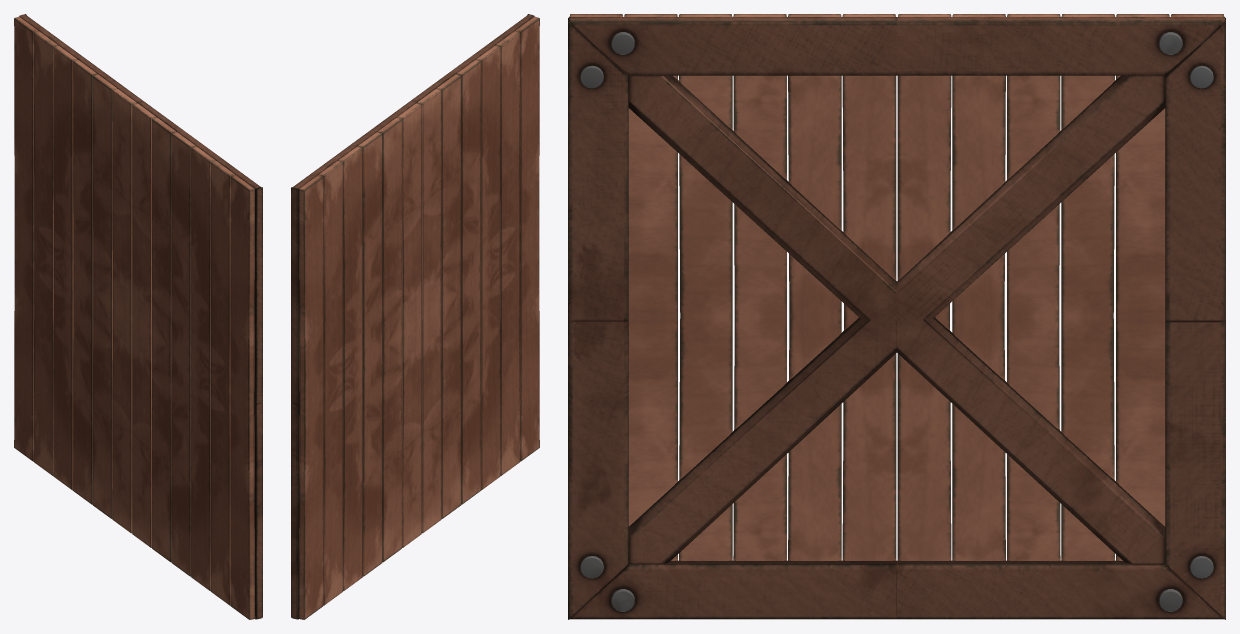
The model's file is SM_WoodCrateLow.fbx.
3 views of the same model, side by side, from view 1: azimuth 30°, elevation 25°; view 2: azimuth 150°, elevation 25°; view 3: azimuth 270°, elevation 25° (orthographic). The views are drawn at different scales.
Visible parts, largest first — view 1: BoxSides; view 2: BoxSides; view 3: BoxSides.
Part boxes in pixels (<box>): BoxSides: <box>14,14,262,619</box>; BoxSides: <box>291,14,539,619</box>; BoxSides: <box>568,14,1225,619</box>.
Size of the model in its own units: 3.22 by 82.4 by 82.72.
1 material, 1 textured.
